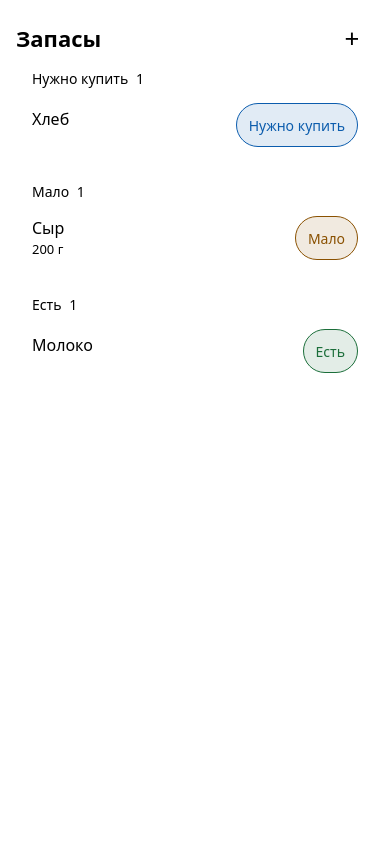
Test case: PantryView › добавление через «+»: форма, сохранение, закрытие
The image size is (390, 844).
Click the button named "Добавить продукт" at (352, 38), box [330,16,374,60]
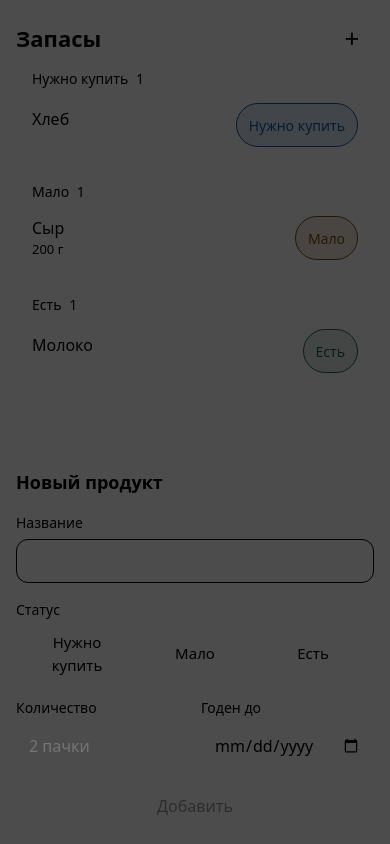
Type "Масло" into the field with test id "name" at (195, 561), box [16,539,374,583]
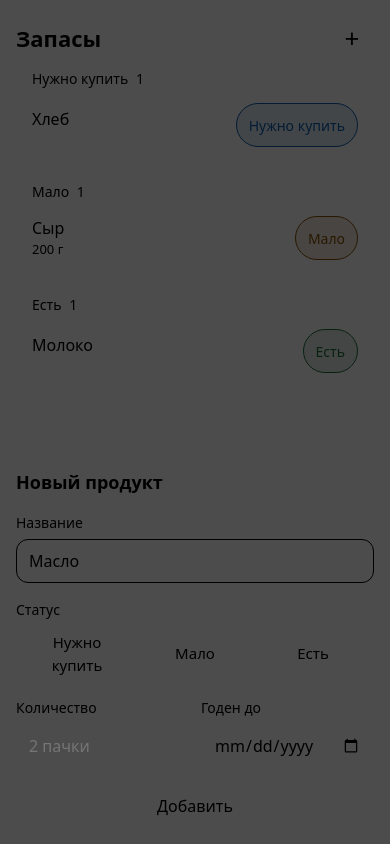
Click the button with test id "submit" at (195, 806), box [16,784,374,828]
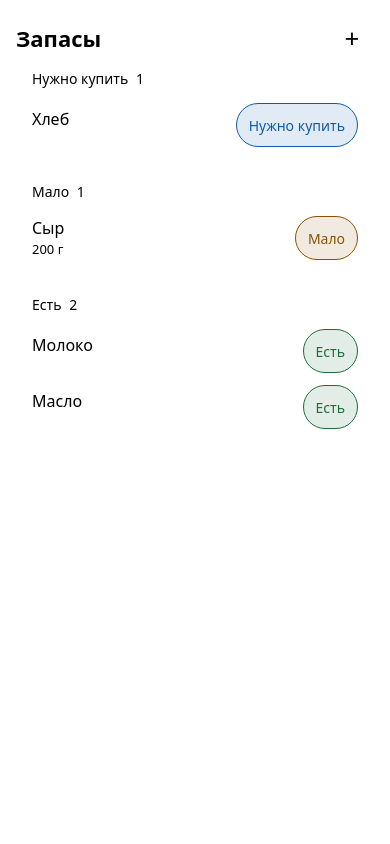
Result: the text "Масло" is shown at [32,389,82,413]
